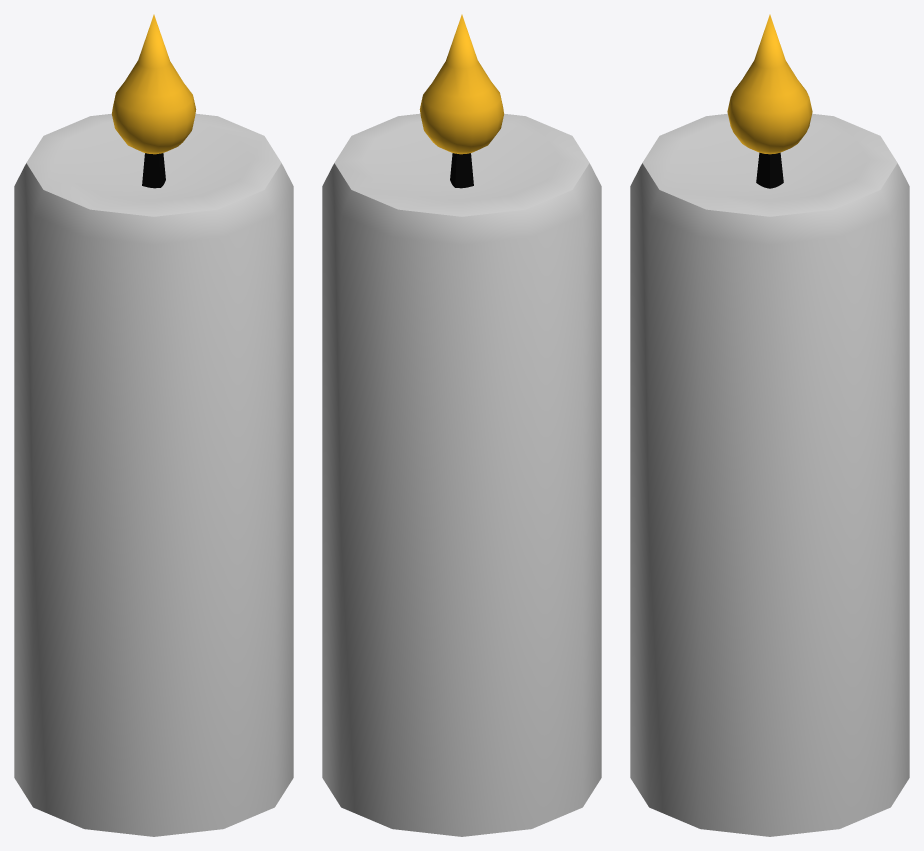
File: candleLarge.glb
3 renders of one model, left to right at view 1: azimuth 30°, elevation 25°; view 2: azimuth 150°, elevation 25°; view 3: azimuth 270°, elevation 25°, orthographic.
Parts seen in each view (by area): view 1: candleLarge; view 2: candleLarge; view 3: candleLarge.
Part boxes in pixels (left/top/right/bottom): candleLarge: left=14, top=14, right=293, bottom=836; candleLarge: left=322, top=14, right=601, bottom=836; candleLarge: left=630, top=14, right=909, bottom=836.
Size of the model in its own units: 0.2779 by 0.8393 by 0.2779.
